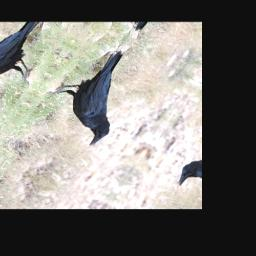Crow: (30, 36, 158, 150)
